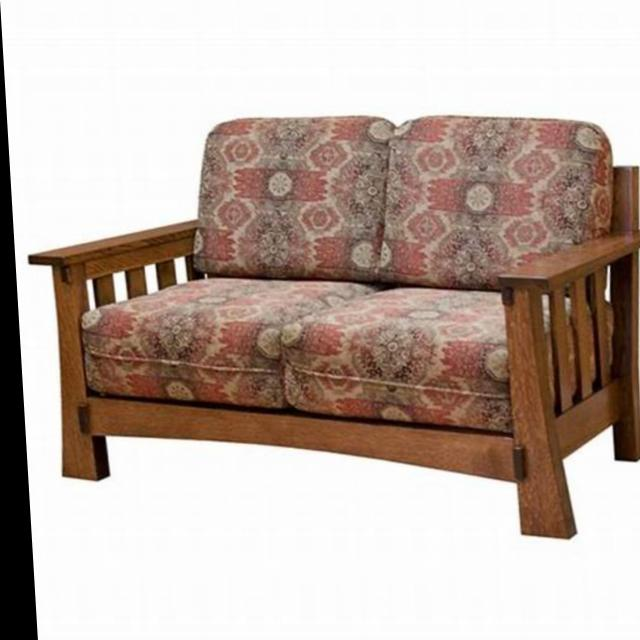Sofa: (21, 113, 640, 539)
